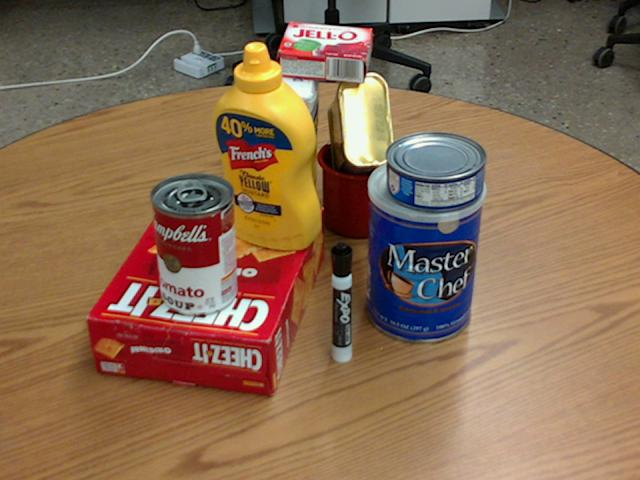cracker_box: (88, 193, 325, 396)
gelatin_box: (275, 23, 372, 83)
large_marker: (331, 242, 353, 362)
master_chef_can: (364, 154, 484, 342)
mug: (319, 134, 424, 236)
mustard_bottle: (211, 42, 320, 248)
potted_meat_can: (326, 74, 394, 189)
sugar_box: (270, 55, 319, 244)
tomato_soup_can: (150, 172, 238, 315)
tuna_fish_can: (385, 131, 486, 210)
